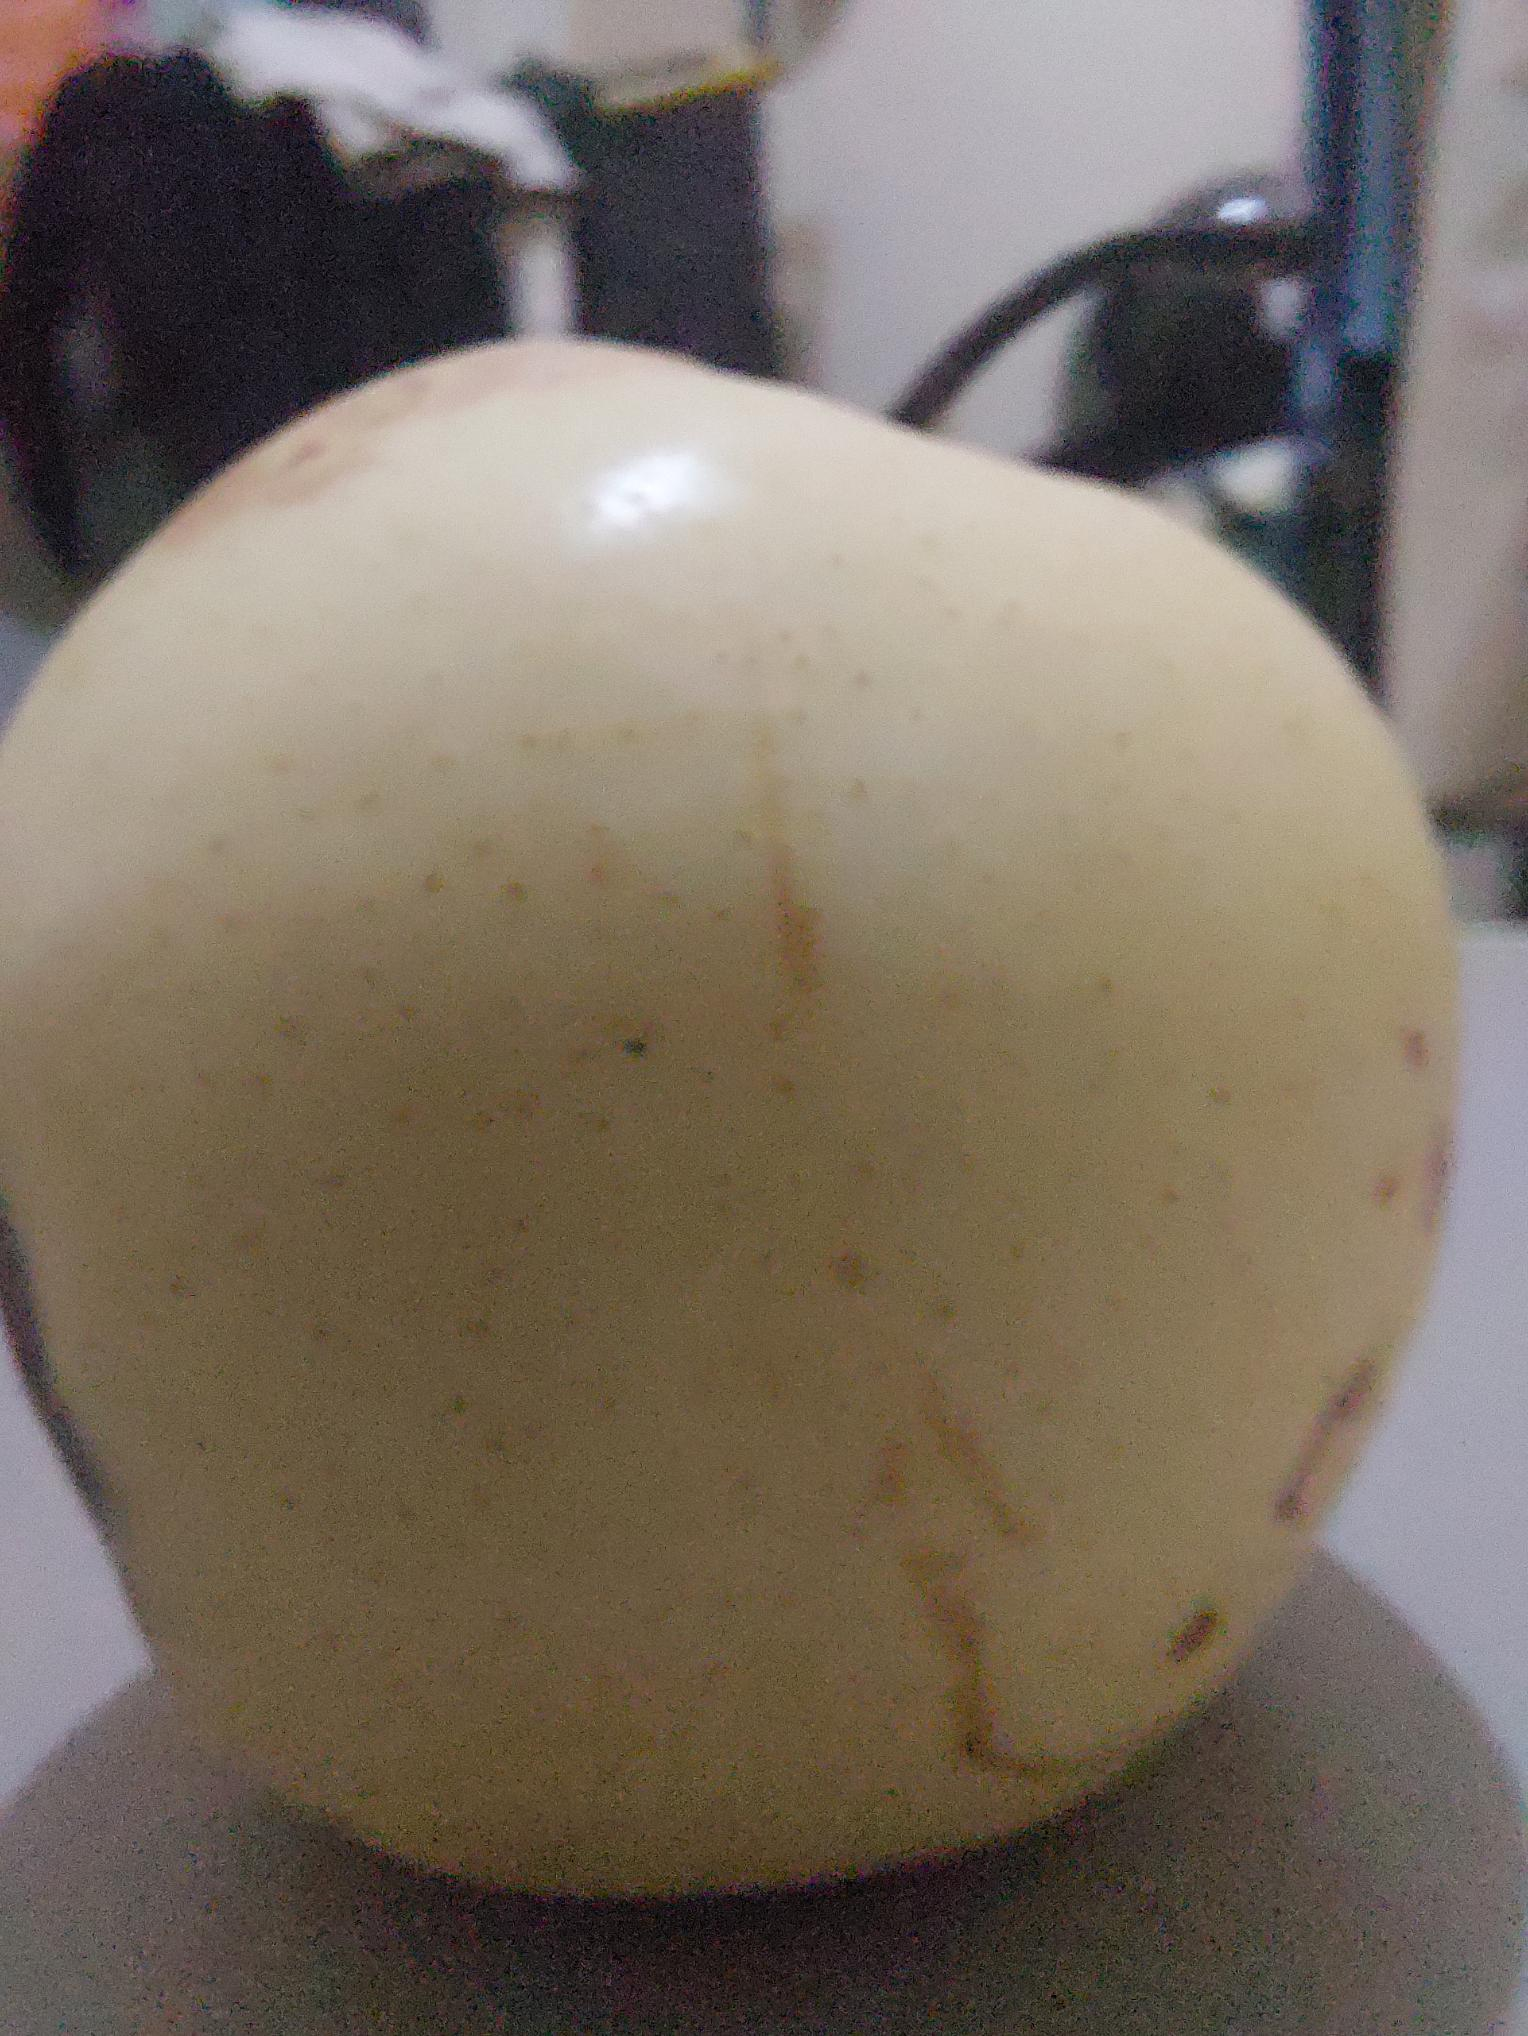Bad Pear: (0, 318, 1486, 1919)
